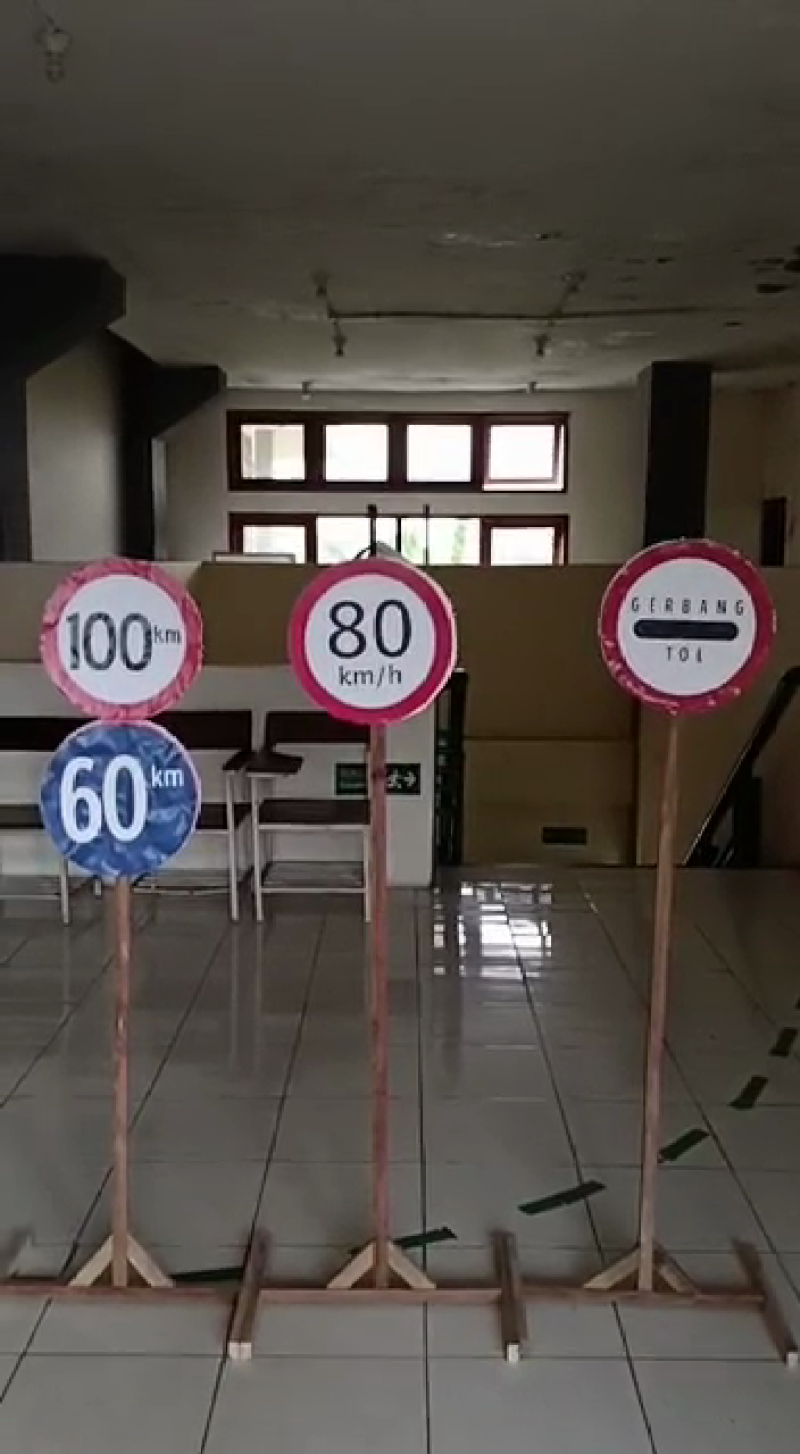batas maksimal 100kmperjam minimal 60kmperjam: (24, 535, 205, 890)
batas maksimal 80kmperjam: (285, 557, 461, 727)
gerbang tol: (592, 522, 768, 716)
